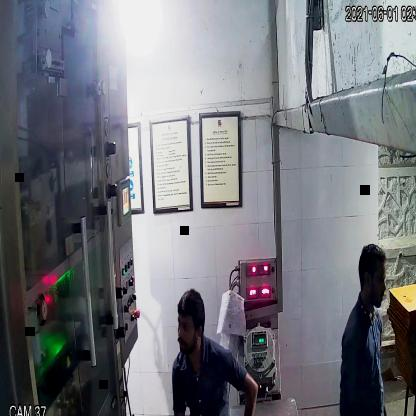no_goggles: (174, 315, 203, 338)
